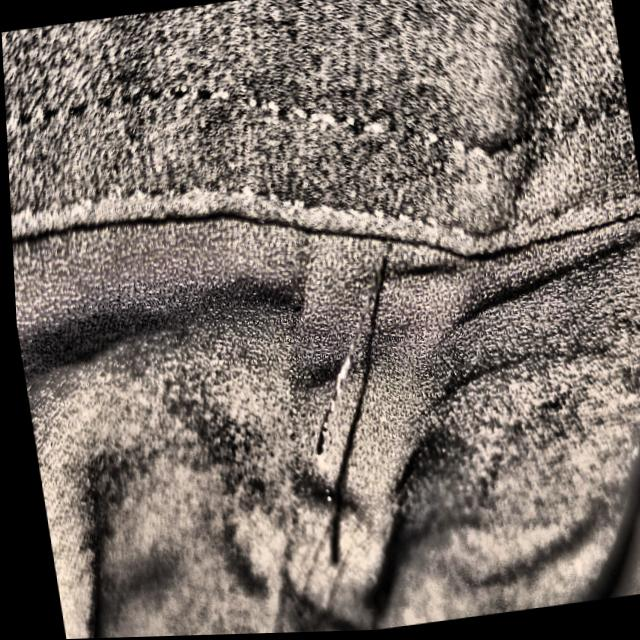Stitch: (212, 184, 459, 568)
